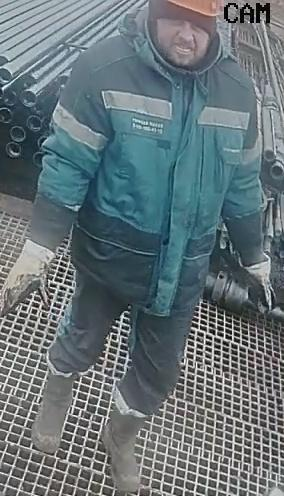gloves: (0, 238, 55, 316), (241, 253, 276, 314)
helmet: (146, 0, 225, 17)
vest: (65, 32, 258, 316)
